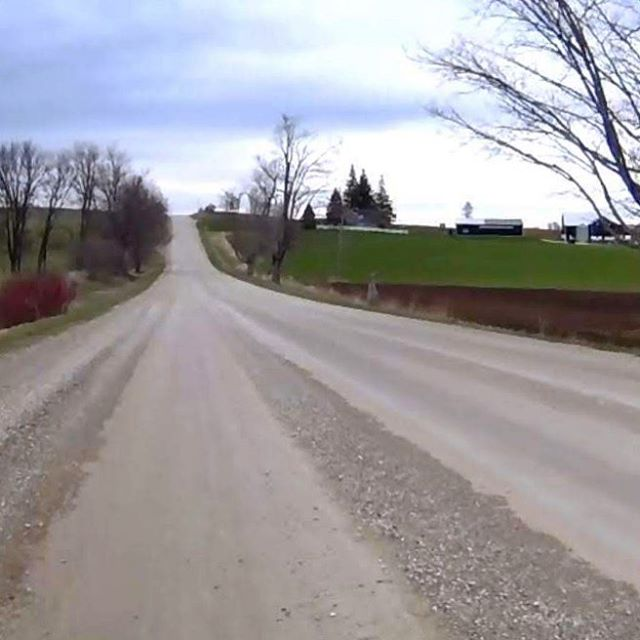building: (564, 204, 630, 249), (453, 206, 520, 236)
grass: (247, 206, 640, 324)
road: (12, 233, 640, 636)
sky: (1, 1, 504, 214)
tree: (432, 1, 640, 244), (233, 114, 340, 297)
vegetation: (1, 143, 162, 322)
